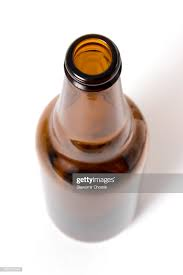beer: (36, 33, 149, 243)
